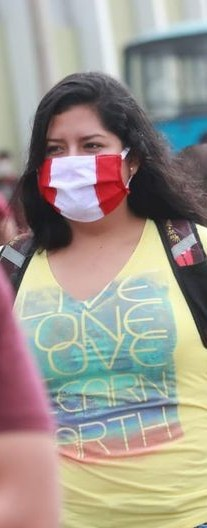with_mask: (18, 81, 179, 250)
